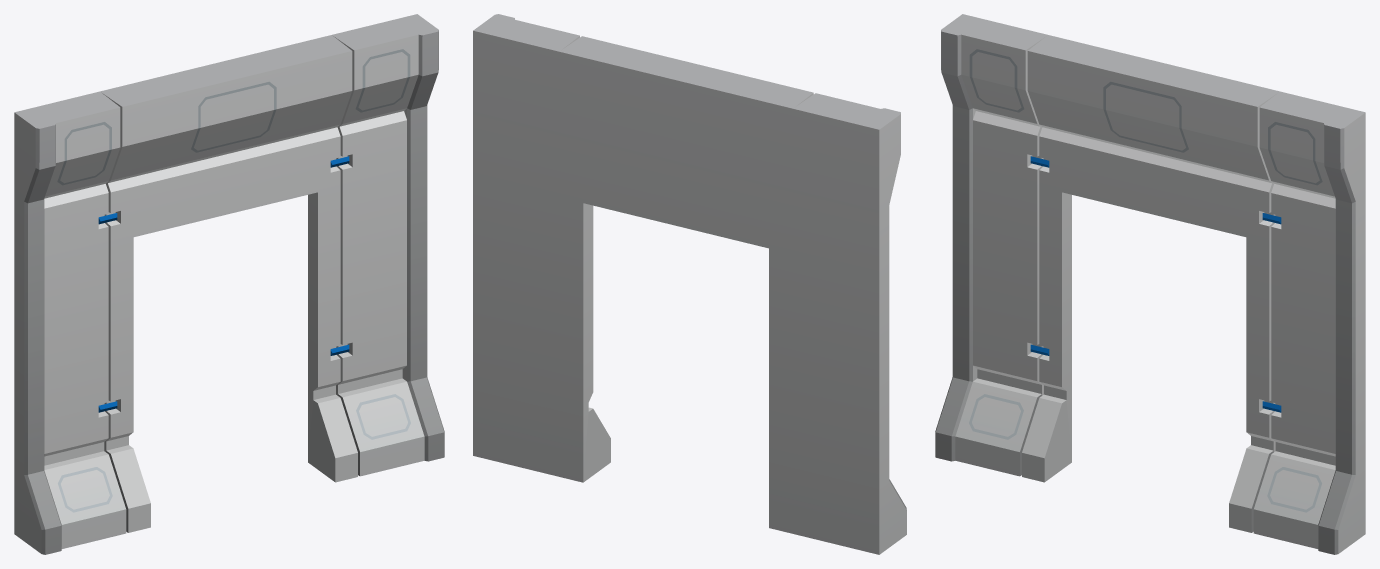
File: Wall_type_A_072.fbx
3 renders of one model, left to right at view 1: azimuth 30°, elevation 25°; view 2: azimuth 150°, elevation 25°; view 3: azimuth 330°, elevation 25°, orthographic.
Visible parts, largest first — view 1: Wall_type_A_072; view 2: Wall_type_A_072; view 3: Wall_type_A_072.
Boxes of the visible parts, x1=… form: Wall_type_A_072: x1=14, y1=14, x2=444, y2=554; Wall_type_A_072: x1=473, y1=14, x2=906, y2=554; Wall_type_A_072: x1=935, y1=14, x2=1365, y2=554.
Size of the model in its own units: 400 by 50 by 400.
